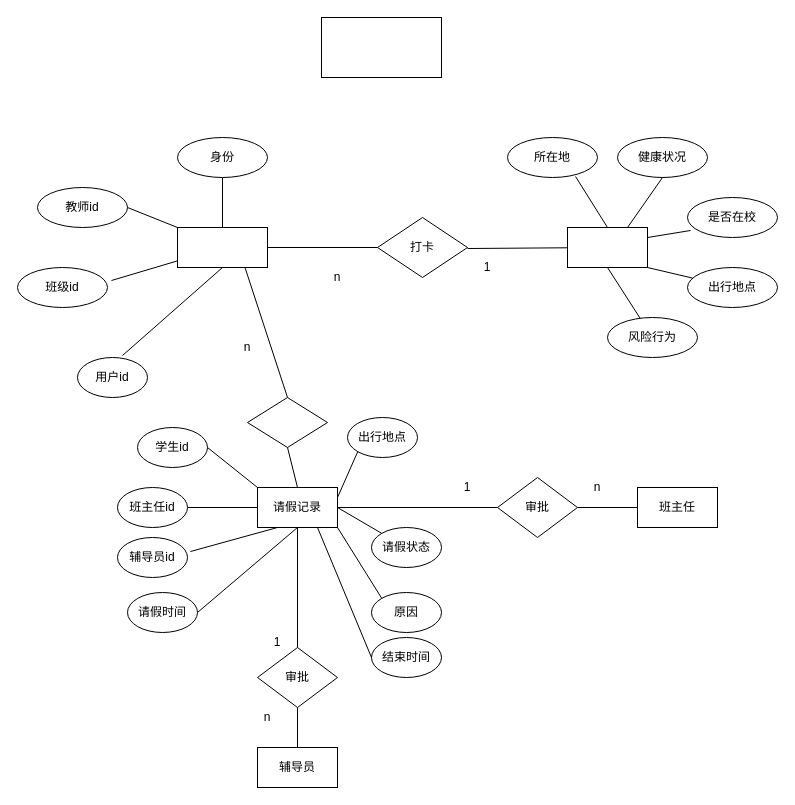
Image size: 795x805. Some labels were removed from this diagram. Here are the shapes that lost their labels. From the top down, the centre of each, then its label:
At (x=222, y=247): "学生".
At (x=607, y=247): "打卡信息".
At (x=287, y=422): "请假".
